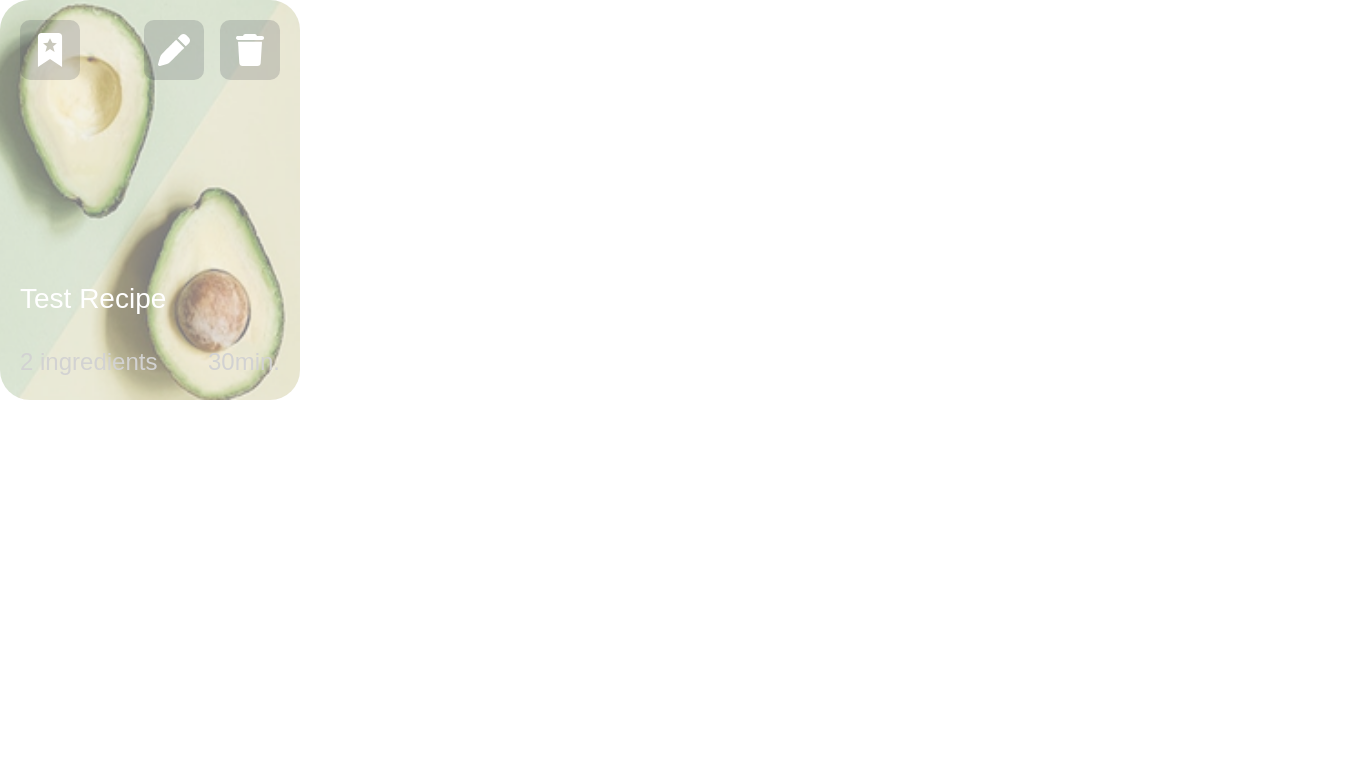
it: Recipe card test › Open delete modal after clicking on delete button
Click the button named "remove item" at x=250, y=50, box [220,20,280,80]
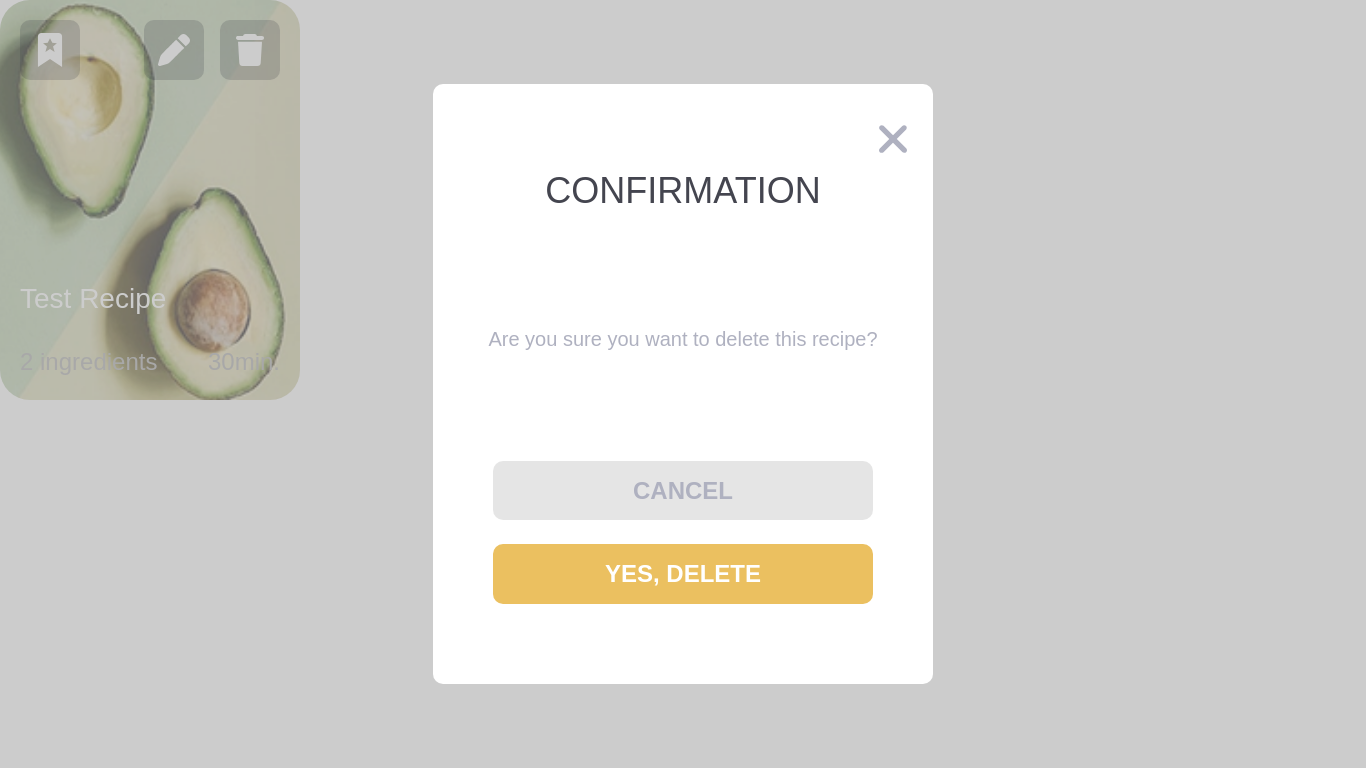
Now the button "yes, delete" is shown, box [493,544,873,604]
